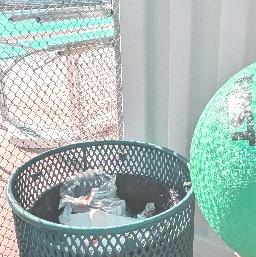algae: (190, 47, 256, 257)
